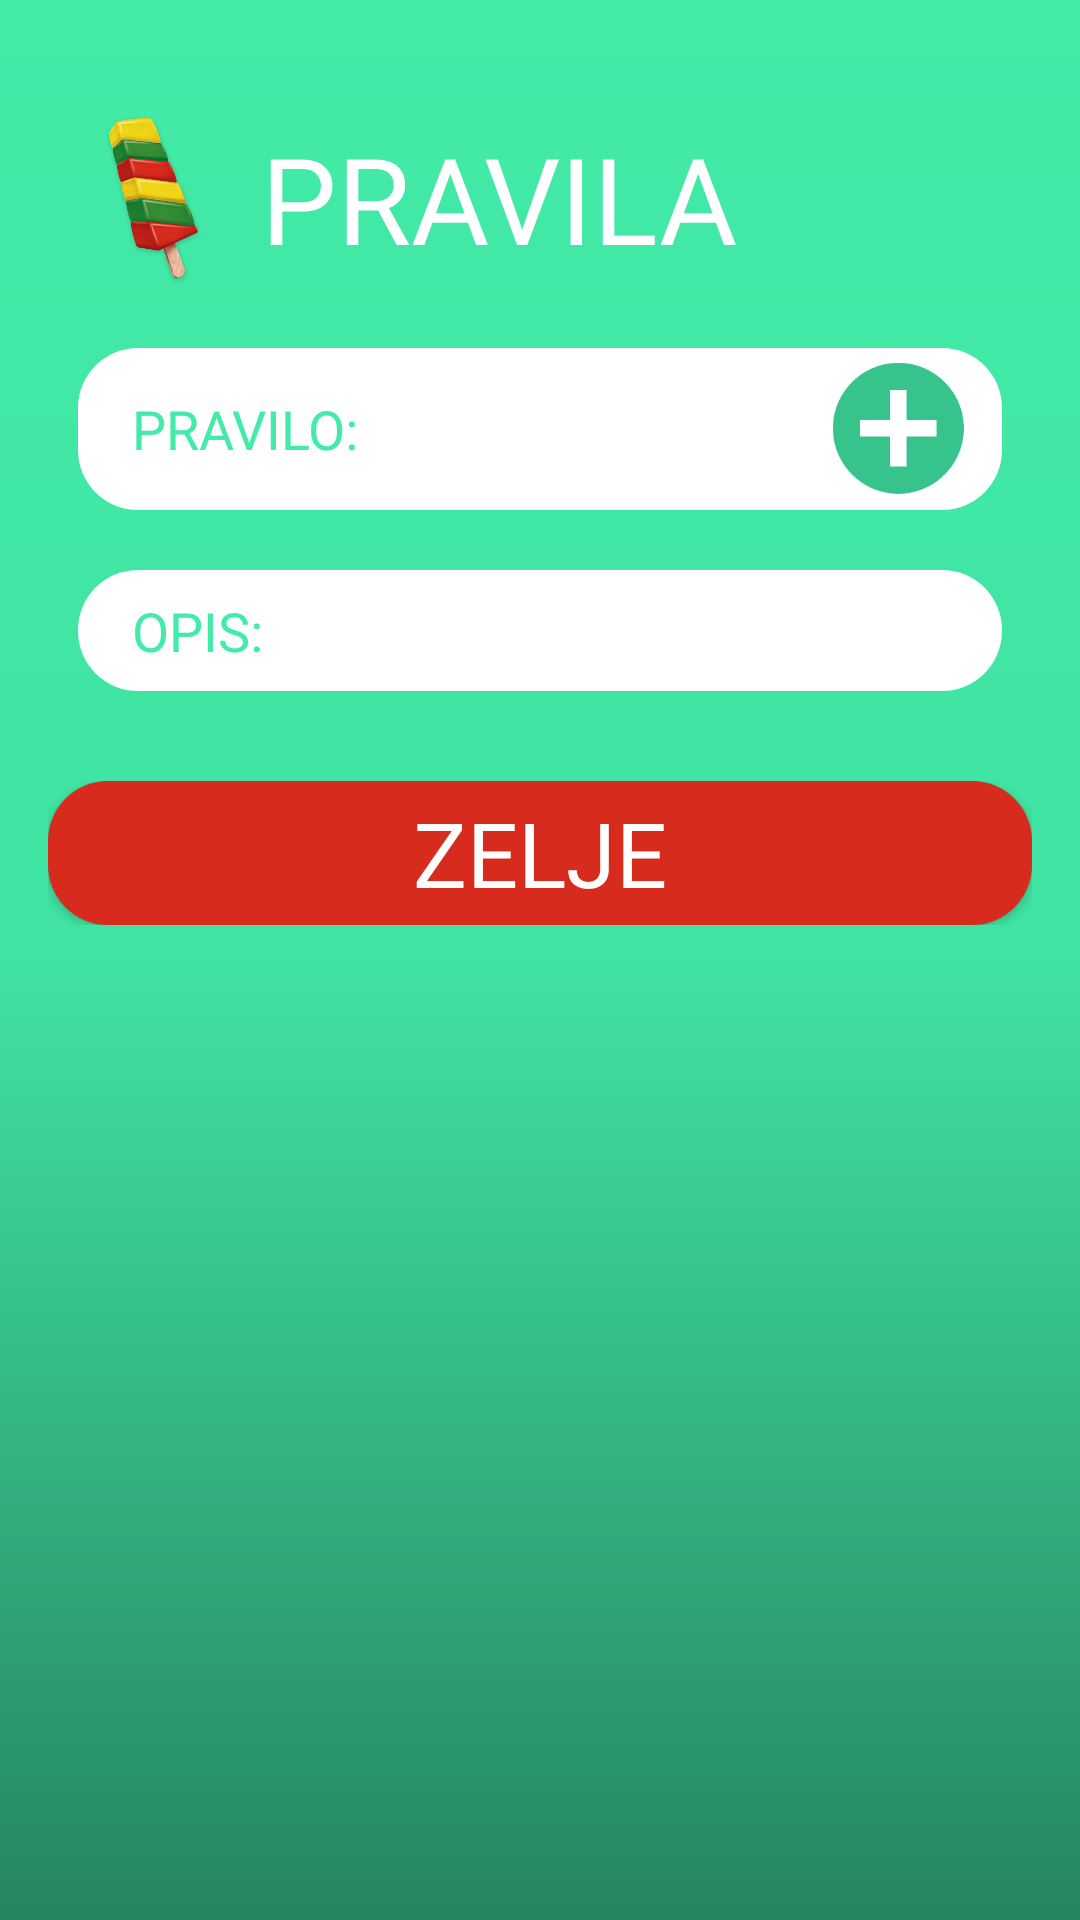

Point at icon controls on the screen. Image size 1080w x 1920h, points as (x,y).
Add: (897,429)
kontiki: (153,199)
